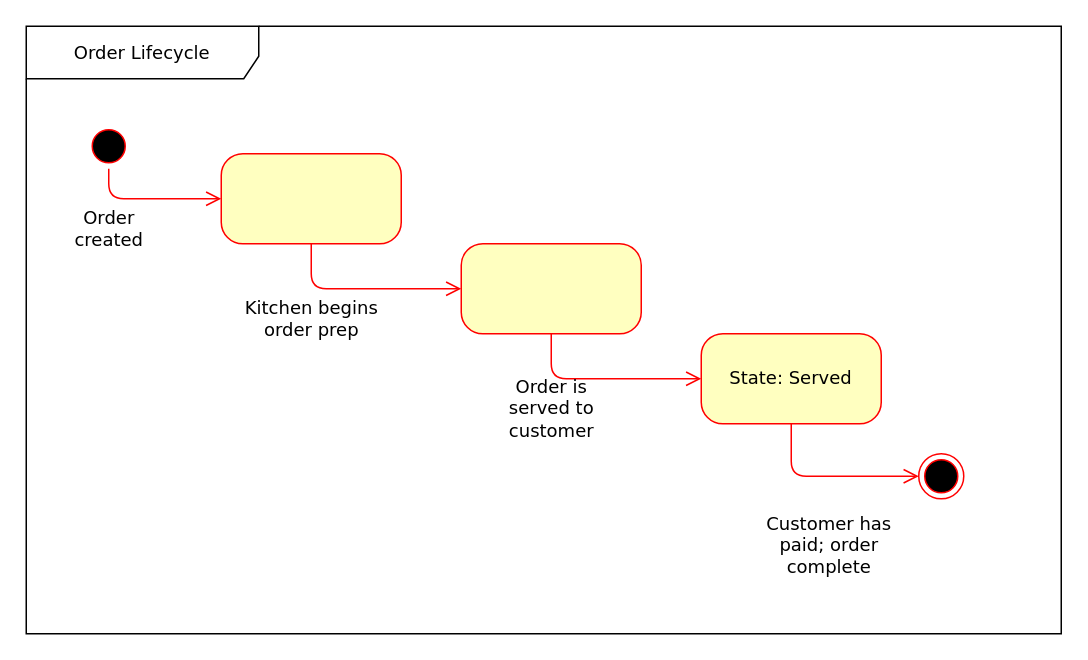
Image size: 1088x660. Some labels were removed from this diagram. Here are the shapes that lost their labels. From the top down, the centre of each, then its label:
pixel 310 198: State: New
pixel 550 288: State: Preparing
